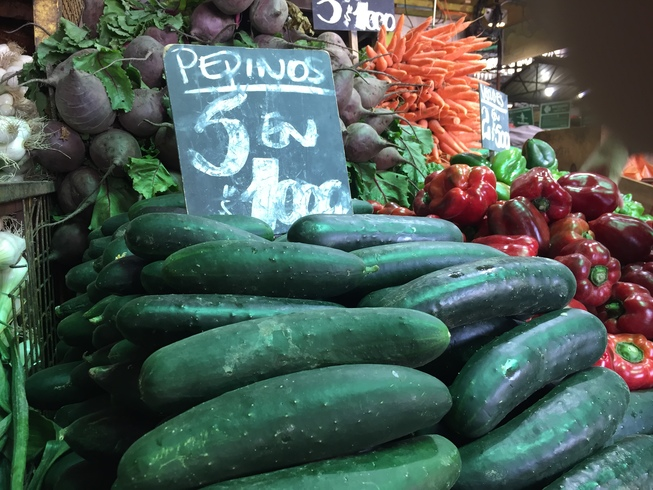precio: (161, 39, 352, 233), (477, 81, 518, 158), (310, 1, 399, 32)
